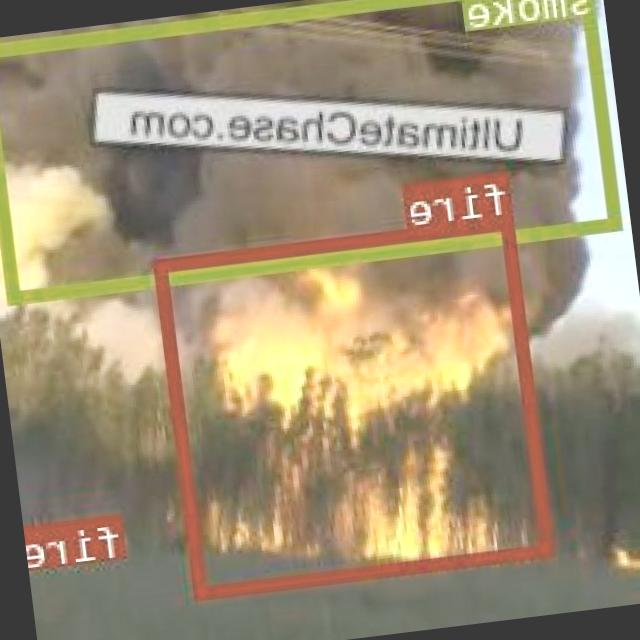fire: (156, 212, 556, 595), (46, 511, 128, 558)
smoke: (0, 0, 625, 302)
